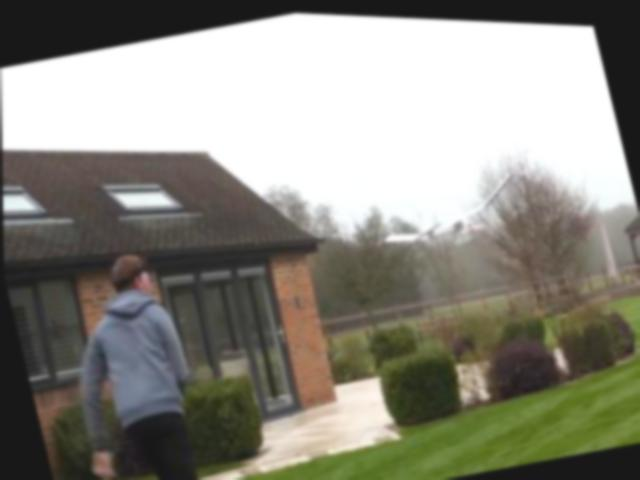uav: (361, 152, 532, 268)
